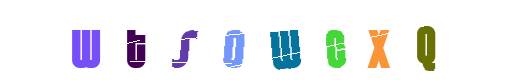0: (220, 0, 300, 80)
C: (295, 0, 375, 80)
Q: (386, 0, 466, 80)
S: (183, 0, 263, 80)
T: (95, 0, 175, 80)
W: (73, 0, 153, 80), (245, 0, 325, 80)
X: (341, 0, 421, 80)
